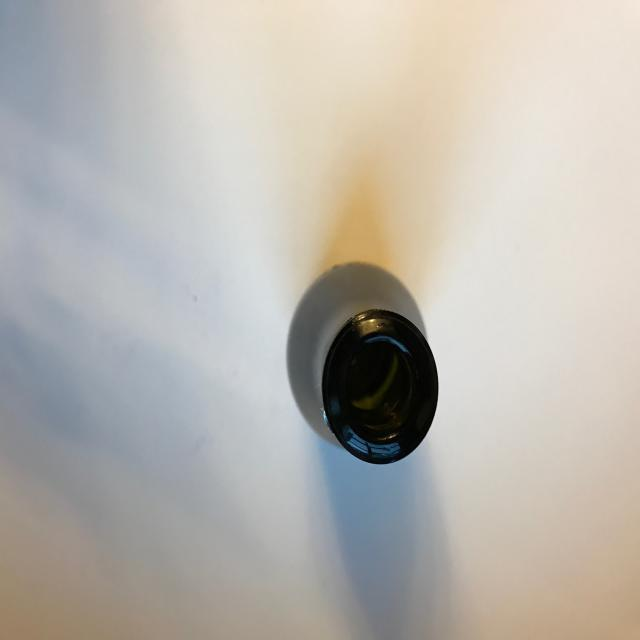glass: (287, 262, 436, 464)
